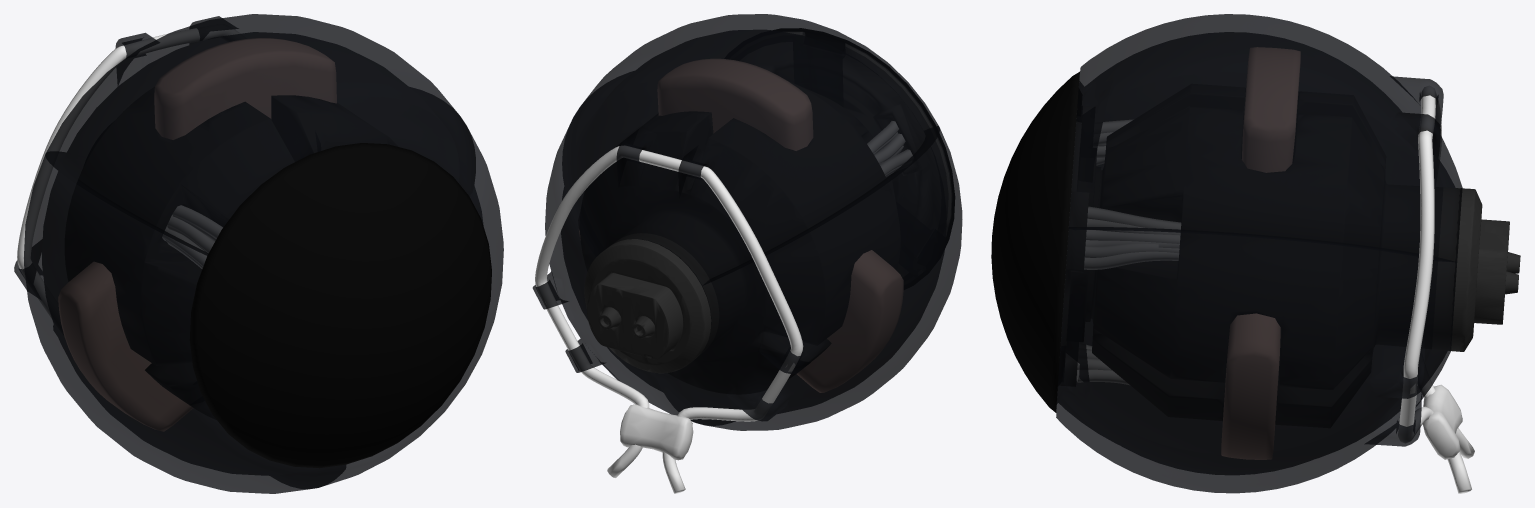
Rendered from robotic_eye.glb.
The picture shows the model from 3 angles, left to right: view 1: azimuth 30°, elevation 25°; view 2: azimuth 150°, elevation 25°; view 3: azimuth 270°, elevation 25°; orthographic projection. The views are drawn at different scales.
Visible parts, largest first — view 1: Battery_0, Eyeball Segment Low Poly_0; view 2: Eyeball Segment Low Poly_0, Battery_0; view 3: Eyeball Segment Low Poly_0, Battery_0.
Part boxes in pixels (x1,y1,x2,y2): Battery_0: (17, 28, 491, 468); Eyeball Segment Low Poly_0: (14, 14, 503, 493); Eyeball Segment Low Poly_0: (532, 14, 962, 430); Battery_0: (535, 28, 954, 493); Eyeball Segment Low Poly_0: (1056, 14, 1462, 493); Battery_0: (991, 47, 1520, 493).
Bounding box in the file's own units: 0.1115 × 0.1118 × 0.1227.
Materials: 3 (3 with a texture image).
